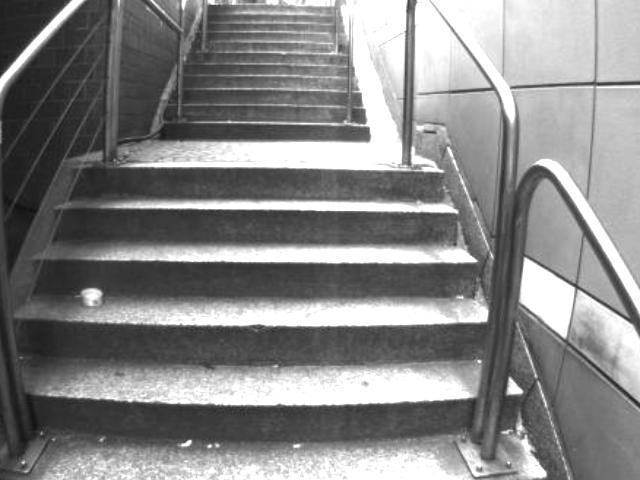Escaleras: (0, 167, 564, 480), (140, 0, 385, 136)
